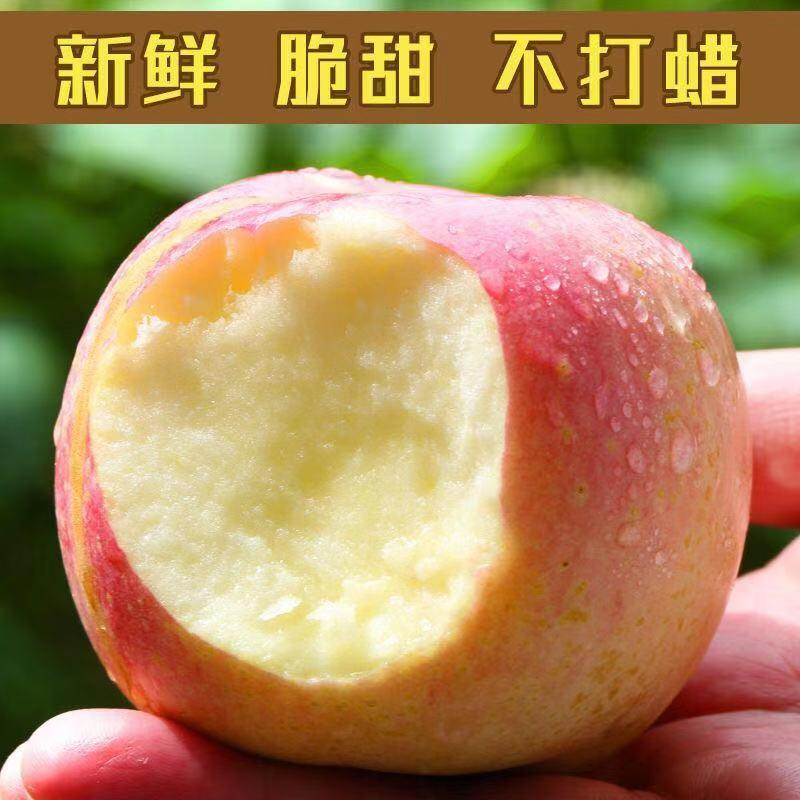apple: (39, 164, 744, 766)
